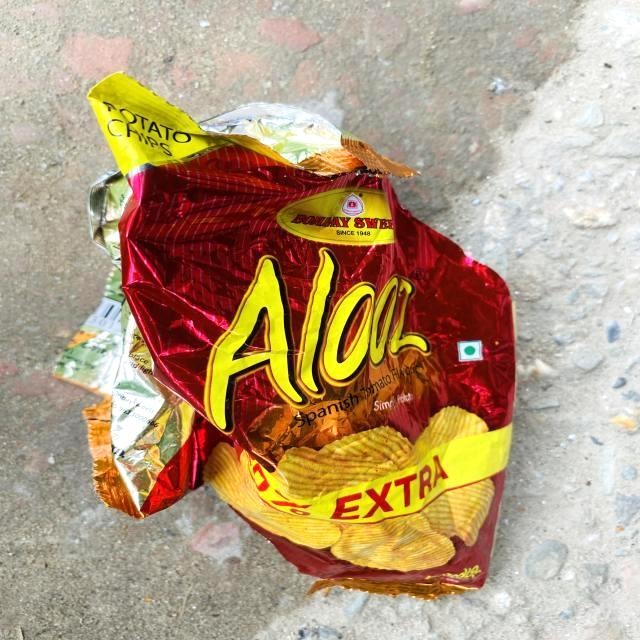packet: (67, 65, 522, 596)
